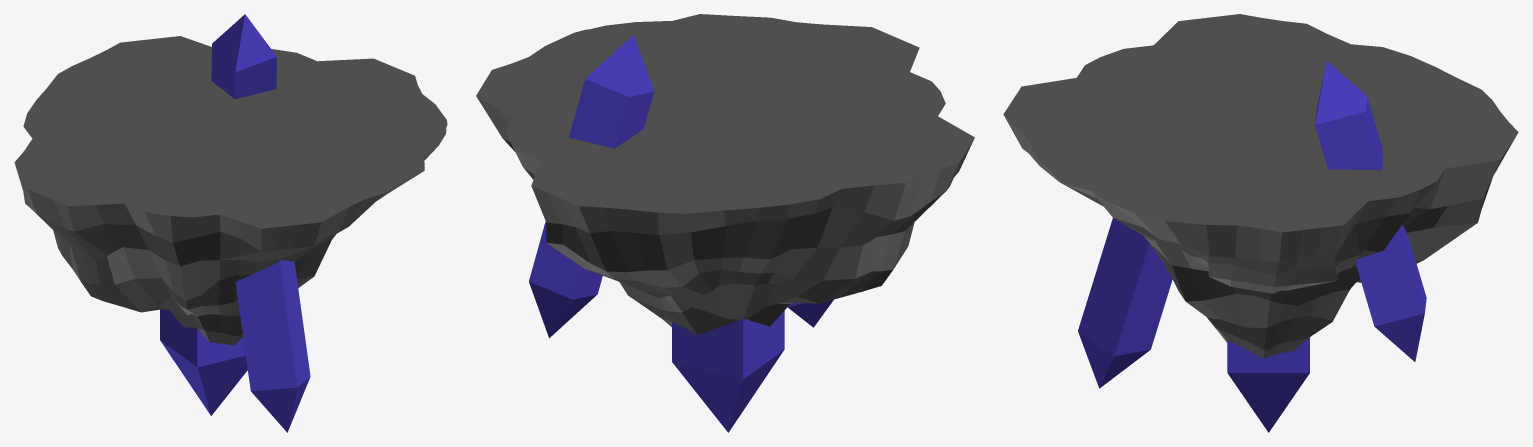
The model's file is island_nonplayable3.fbx.
3 views of the same model, side by side, from view 1: azimuth 30°, elevation 25°; view 2: azimuth 150°, elevation 25°; view 3: azimuth 270°, elevation 25° (orthographic). The views are drawn at different scales.
Parts seen in each view (by area): view 1: island_nonplayable3_rocks, island_nonplayable3_crystals; view 2: island_nonplayable3_rocks, island_nonplayable3_crystals; view 3: island_nonplayable3_rocks, island_nonplayable3_crystals.
Part boxes in pixels (left/top/right/bottom): island_nonplayable3_rocks: left=14, top=36, right=447, bottom=345; island_nonplayable3_crystals: left=160, top=14, right=310, bottom=432; island_nonplayable3_rocks: left=476, top=14, right=974, bottom=335; island_nonplayable3_crystals: left=529, top=35, right=833, bottom=432; island_nonplayable3_rocks: left=1003, top=14, right=1518, bottom=358; island_nonplayable3_crystals: left=1078, top=61, right=1426, bottom=432.
Size of the model in its own units: 8039 by 6945 by 8012.
